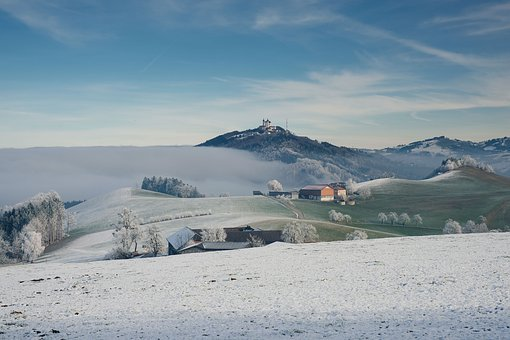field: (4, 140, 488, 340)
sky: (4, 6, 505, 142)
